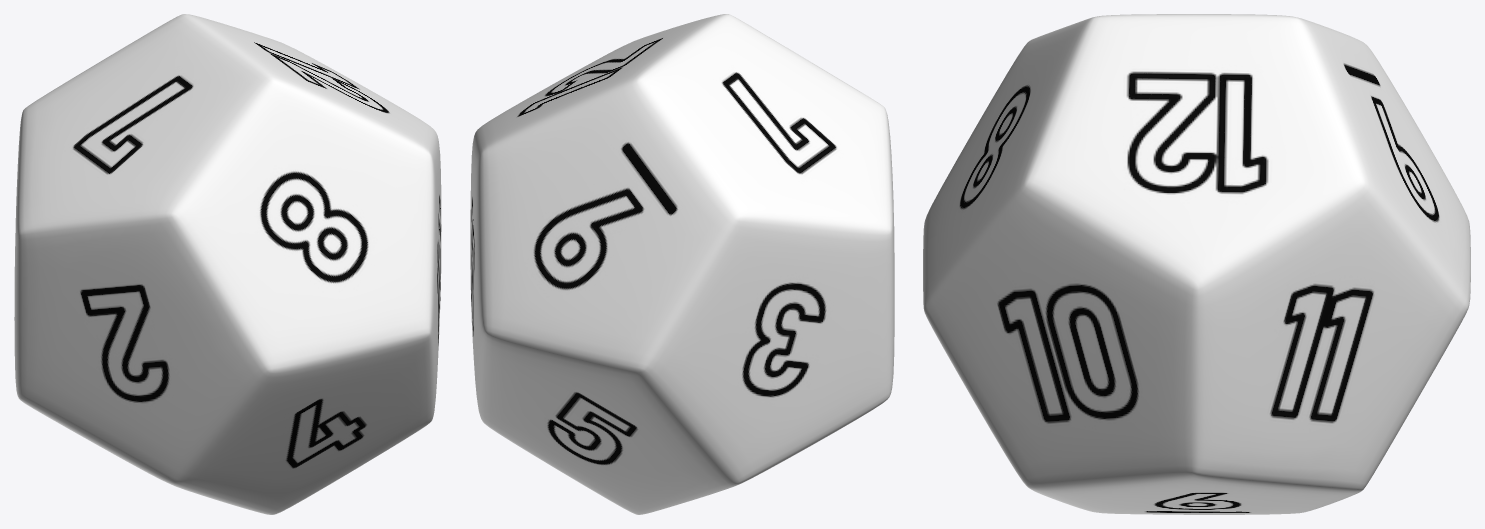
File: dice.glb
3 views of the same model, side by side, from view 1: azimuth 30°, elevation 25°; view 2: azimuth 150°, elevation 25°; view 3: azimuth 270°, elevation 25° (orthographic). The views are drawn at different scales.
Parts seen in each view (by area): view 1: Object_12; view 2: Object_12; view 3: Object_12.
Boxes of the visible parts, x1,y1,x2,y2 form: Object_12: [14, 14, 441, 514]; Object_12: [470, 14, 894, 514]; Object_12: [923, 14, 1470, 514].
Size of the model in its own units: 1.82 by 1.82 by 1.82.
1 material, 1 textured.
